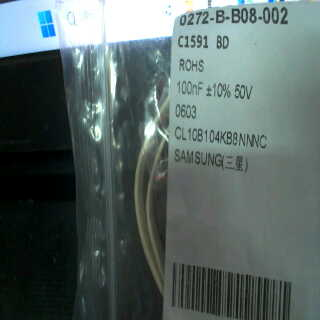100nF: (176, 77, 205, 100)
